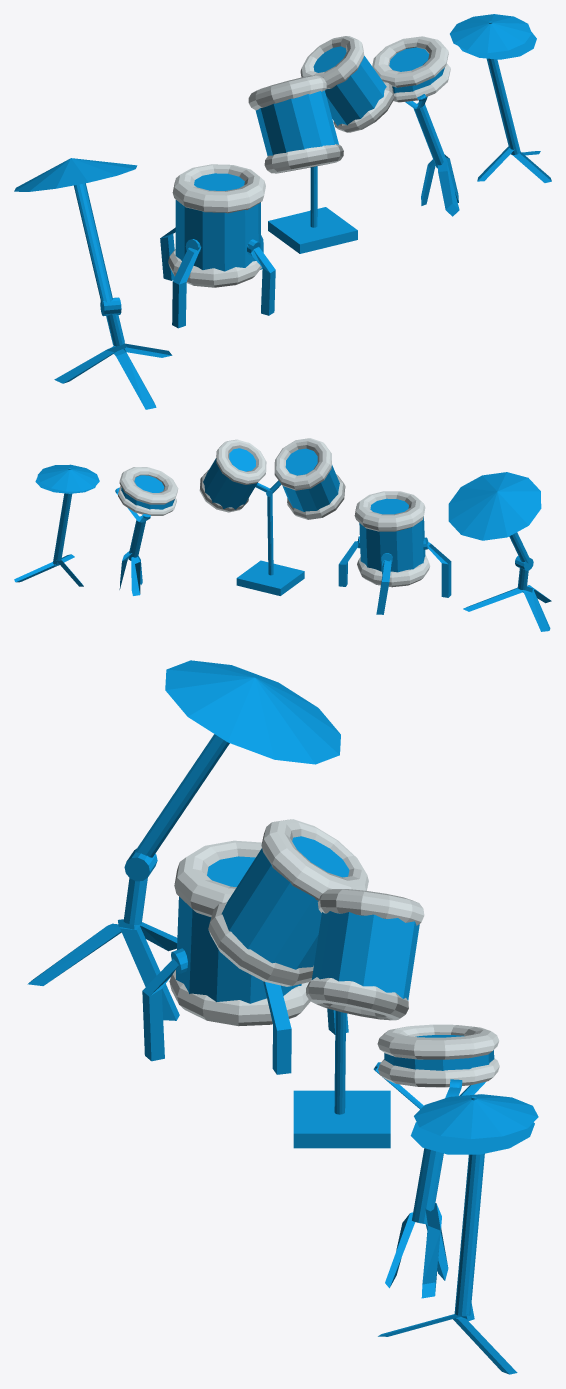
The model's file is drum.obj.
3 views of the same model, one above another, from view 1: azimuth 30°, elevation 25°; view 2: azimuth 150°, elevation 25°; view 3: azimuth 270°, elevation 25° (orthographic). The views are drawn at different scales.
Visible parts, largest first — view 1: drum5 Mesh drum5_middle, drum6 stand6, drum3_4 drum4 drum4_middle, drum3_4, drum5 Mesh, drum3_4 drum3 drum3_middle, drum1, drum2 polySurface5, drum6, drum1 stand1, drum3_4 drum3, drum3_4 drum4 drum4_bottom (+11 smaller); view 2: drum6, drum5 Mesh drum5_middle, drum3_4, drum3_4 drum4 drum4_middle, drum5 Mesh, drum3_4 drum3 drum3_middle, drum3_4 drum4, drum6 stand6, drum2 polySurface5, drum3_4 drum3, drum1, drum1 stand1 (+10 smaller); view 3: drum6, drum3_4 drum4 drum4_middle, drum6 stand6, drum3_4 drum3 drum3_middle, drum3_4, drum5 Mesh drum5_middle, drum3_4 drum4, drum1, drum1 stand1, drum2 polySurface5, drum5 Mesh, drum5 Mesh drum5_bottom (+10 smaller).
Part boxes in pixels (x1,y1,x2,y2): drum5 Mesh drum5_middle: [175, 173, 260, 271]; drum6 stand6: [54, 183, 172, 409]; drum3_4 drum4 drum4_middle: [255, 90, 338, 155]; drum3_4: [268, 166, 357, 253]; drum5 Mesh: [172, 164, 265, 213]; drum3_4 drum3 drum3_middle: [313, 46, 386, 125]; drum1: [450, 14, 531, 53]; drum2 polySurface5: [372, 36, 448, 87]; drum6: [14, 158, 137, 191]; drum1 stand1: [477, 21, 551, 182]; drum3_4 drum3: [300, 36, 364, 89]; drum3_4 drum4 drum4_bottom: [264, 144, 343, 173]; drum6: [448, 472, 541, 540]; drum5 Mesh drum5_middle: [359, 498, 425, 572]; drum3_4: [236, 480, 304, 595]; drum3_4 drum4 drum4_middle: [282, 448, 339, 511]; drum5 Mesh: [354, 491, 425, 531]; drum3_4 drum3 drum3_middle: [203, 448, 257, 509]; drum3_4 drum4: [274, 438, 331, 490]; drum6 stand6: [463, 532, 551, 631]; drum2 polySurface5: [119, 467, 178, 504]; drum3_4 drum3: [216, 439, 266, 484]; drum1: [37, 464, 99, 491]; drum1 stand1: [14, 468, 83, 586]; drum6: [165, 660, 340, 764]; drum3_4 drum4 drum4_middle: [221, 836, 349, 969]; drum6 stand6: [27, 734, 229, 1020]; drum3_4 drum3 drum3_middle: [312, 911, 419, 1000]; drum3_4: [293, 1010, 390, 1148]; drum5 Mesh drum5_middle: [175, 856, 301, 1003]; drum3_4 drum4: [261, 819, 368, 900]; drum1: [414, 1094, 538, 1138]; drum1 stand1: [378, 1096, 517, 1374]; drum2 polySurface5: [377, 1024, 499, 1059]; drum5 Mesh: [174, 840, 261, 916]; drum5 Mesh drum5_bottom: [169, 970, 311, 1026].
Size of the model in its own units: 3.96 by 1.35 by 1.92.
